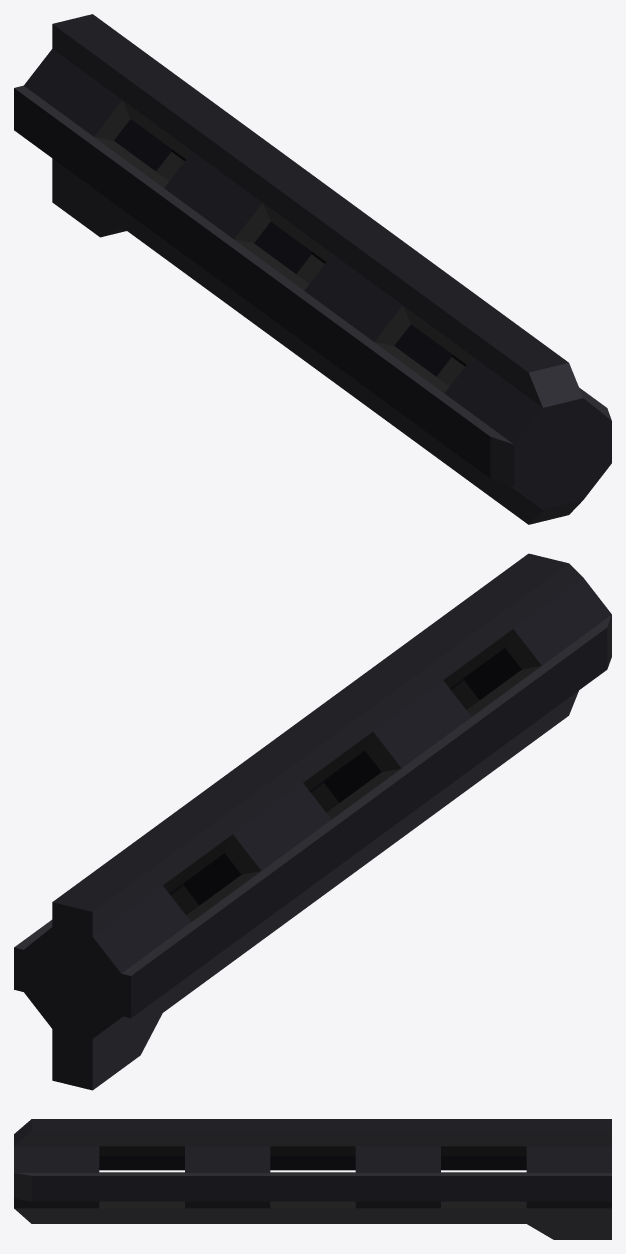
Rendered from MW1_Handguard_5.56mm_16in_02.fbx.
3 views of the same model, one above another, from view 1: azimuth 30°, elevation 25°; view 2: azimuth 150°, elevation 25°; view 3: azimuth 270°, elevation 25° (orthographic). The views are drawn at different scales.
Visible parts, largest first — view 1: Handguard_5.56mm_16in_02; view 2: Handguard_5.56mm_16in_02; view 3: Handguard_5.56mm_16in_02.
Boxes of the visible parts, box(x1,y1,x2,y2) form: Handguard_5.56mm_16in_02: box(14, 14, 611, 524); Handguard_5.56mm_16in_02: box(14, 553, 611, 1090); Handguard_5.56mm_16in_02: box(14, 1119, 611, 1239).
Size of the model in its own units: 4.38 by 6.38 by 31.8.
